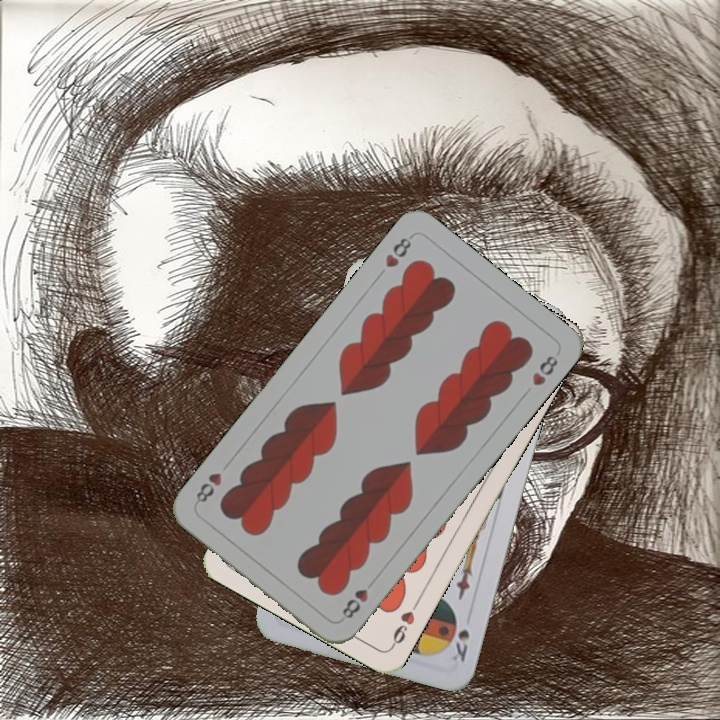H8: (381, 231, 416, 271), (337, 585, 371, 621)
H9: (387, 597, 422, 651)
SK: (446, 613, 473, 665)
